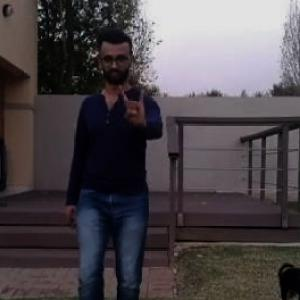takeoff-hand: (109, 76, 155, 130)
